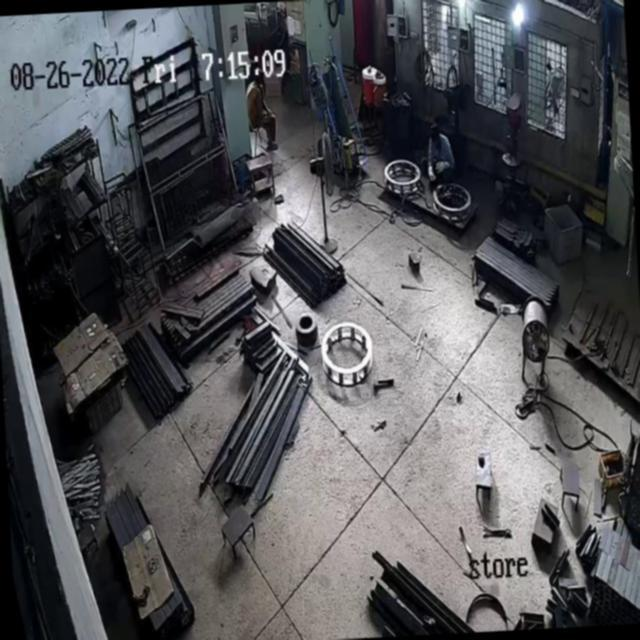person: (244, 78, 281, 150), (426, 124, 459, 183)
